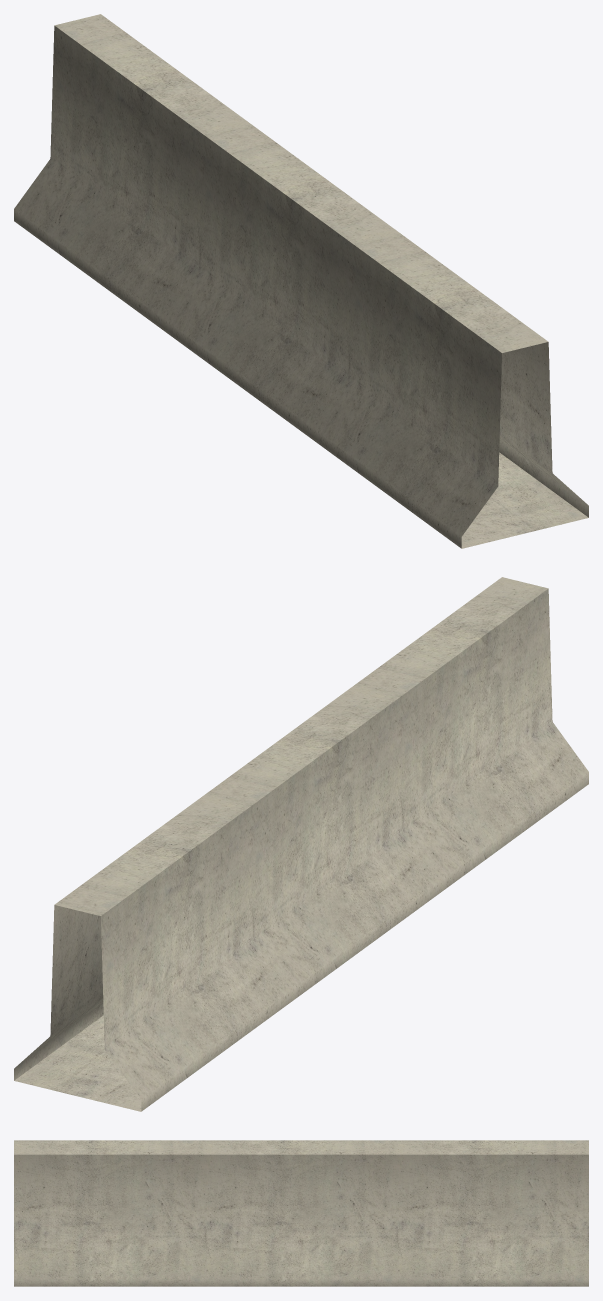
The model's file is GSDBarrier-KRail.fbx.
3 views of the same model, one above another, from view 1: azimuth 30°, elevation 25°; view 2: azimuth 150°, elevation 25°; view 3: azimuth 270°, elevation 25° (orthographic). The views are drawn at different scales.
Visible parts, largest first — view 1: KRail5m; view 2: KRail5m; view 3: KRail5m.
Part boxes in pixels (<box>): KRail5m: <box>14,14,588,548</box>; KRail5m: <box>14,577,588,1111</box>; KRail5m: <box>14,1140,588,1286</box>.
Size of the model in its own units: 0.82 by 1.15 by 5.
1 material, 1 textured.
